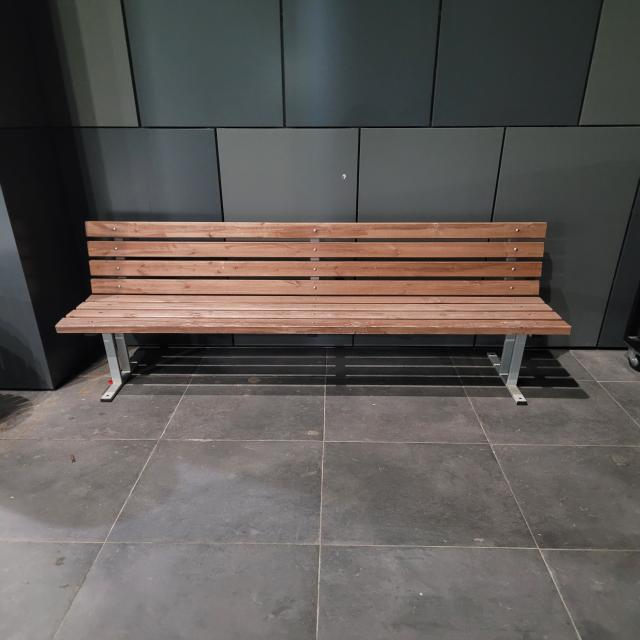Bench: (55, 221, 571, 405)
